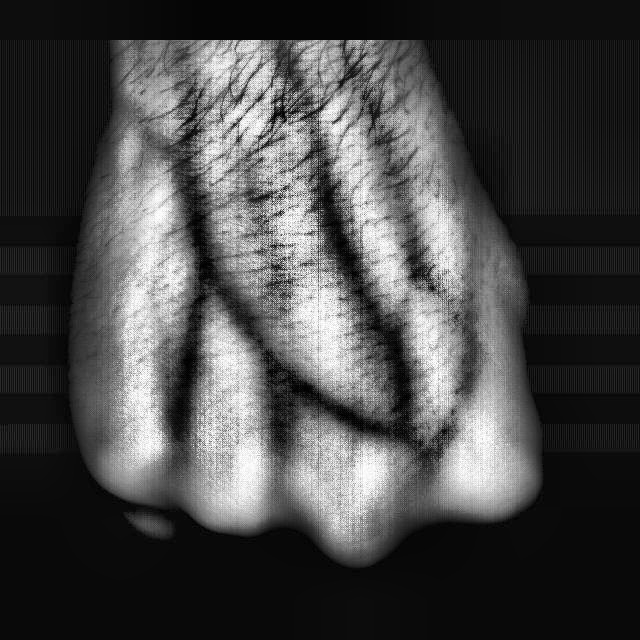Vein: (165, 172, 273, 364)
